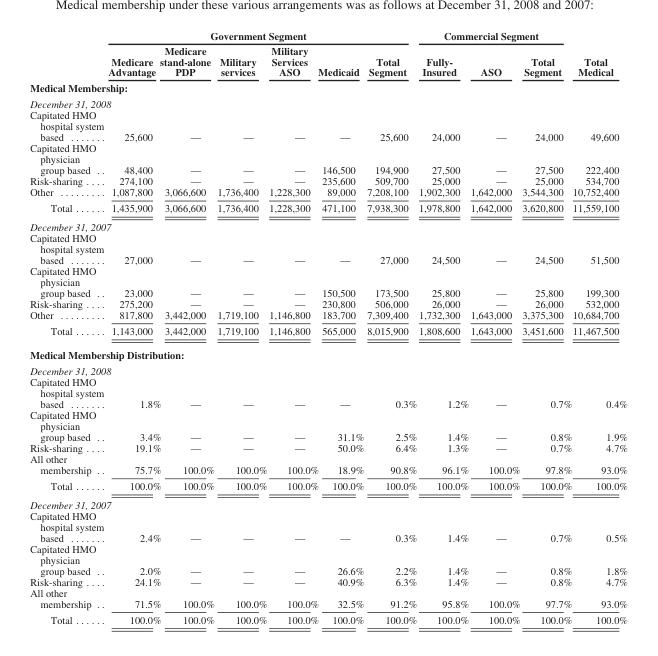table: (29, 29, 626, 625)
table column: (29, 29, 105, 625), (159, 29, 215, 625), (571, 29, 626, 625), (105, 29, 159, 625), (364, 29, 417, 625), (215, 29, 267, 625), (468, 29, 520, 625), (417, 29, 468, 625), (520, 29, 571, 625), (267, 29, 317, 625), (317, 29, 364, 625)
table column header: (29, 29, 626, 79)
table projected row header: (29, 342, 626, 362), (29, 79, 626, 95), (29, 217, 626, 232), (29, 95, 626, 109), (29, 362, 626, 376), (29, 495, 626, 509)
table row: (29, 42, 626, 79), (29, 109, 626, 142), (29, 142, 626, 175), (29, 264, 626, 297), (29, 376, 626, 409), (29, 509, 626, 542), (29, 542, 626, 575), (29, 232, 626, 264), (29, 409, 626, 441), (29, 452, 626, 477), (29, 586, 626, 611), (29, 322, 626, 342), (29, 342, 626, 362), (29, 199, 626, 217), (29, 477, 626, 495), (29, 79, 626, 95), (29, 217, 626, 232), (29, 95, 626, 109), (29, 308, 626, 322), (29, 362, 626, 376), (29, 495, 626, 509), (29, 611, 626, 625), (29, 29, 626, 42), (29, 186, 626, 199), (29, 175, 626, 186), (29, 297, 626, 308), (29, 441, 626, 452), (29, 575, 626, 586)
table spanning cell: (105, 29, 417, 42), (571, 29, 626, 79), (417, 29, 571, 42)
